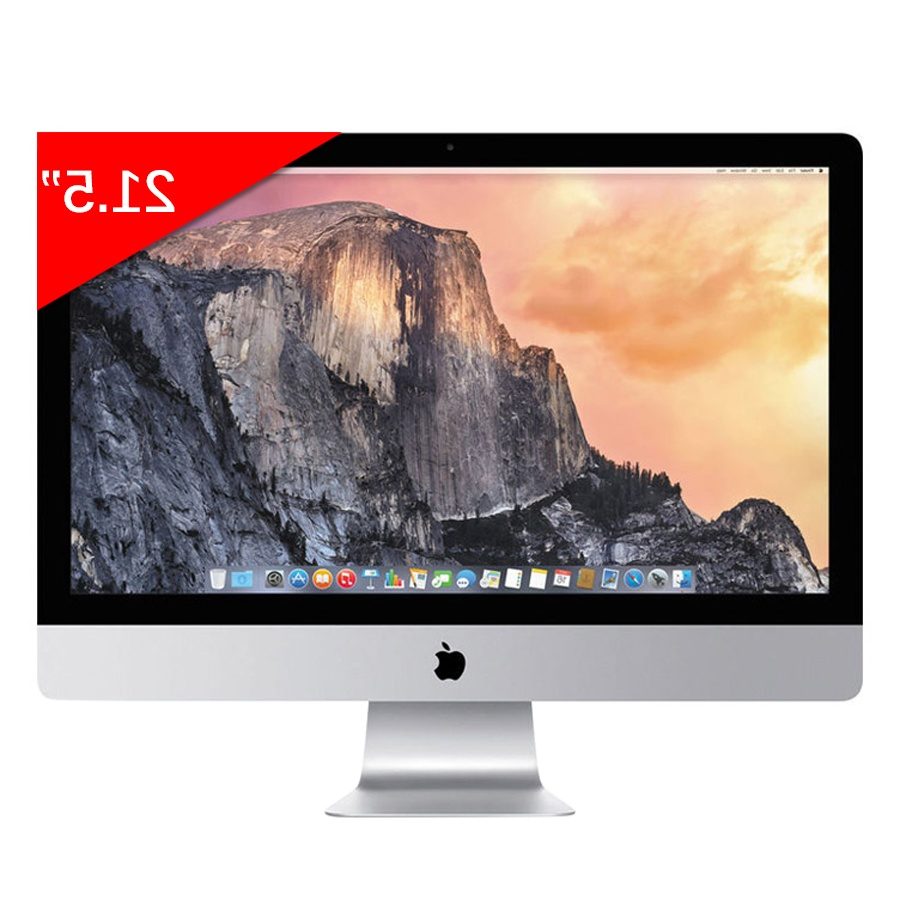Apple: (331, 584, 558, 750)
